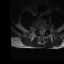CCS_normal: (41, 28, 43, 35)
LFS_normal: (45, 27, 47, 32)
LLS_normal: (43, 28, 45, 34)
RFS_normal: (36, 27, 39, 32)
RLS_normal: (39, 28, 41, 35)
